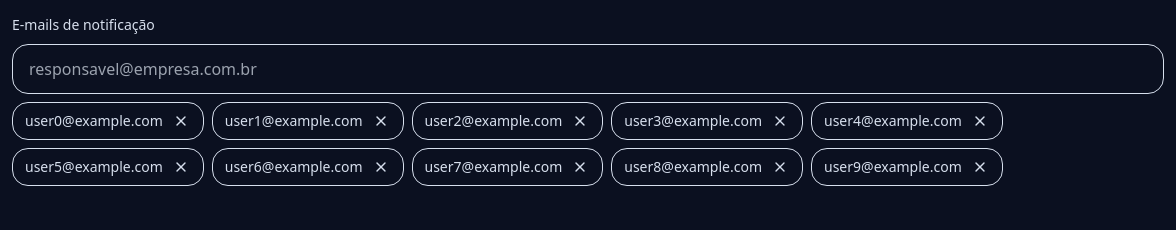
Test: EmailListEditor › blocks adding beyond the 10-email limit
Type "eleventh@example.com" into the field labelled "E-mails de notificação" at (588, 69), box [12, 44, 1164, 94]
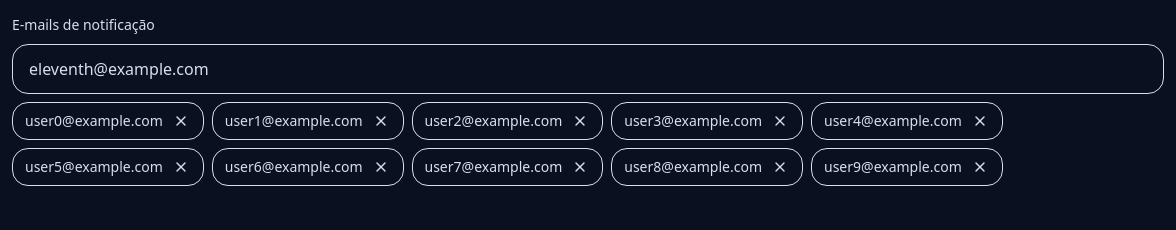
Press Enter in the field labelled "E-mails de notificação", box [12, 44, 1164, 94]
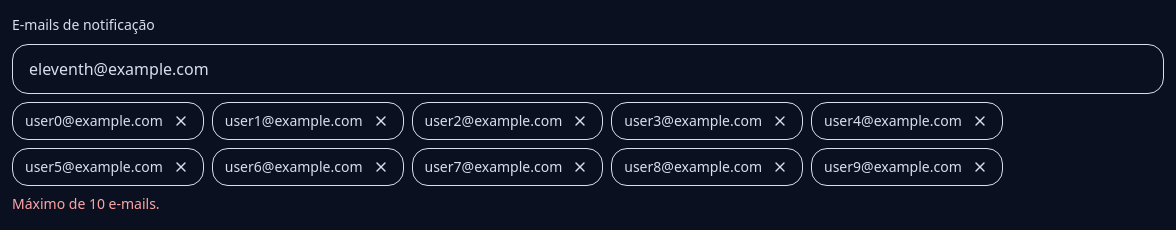
Expected: the message shows "Máximo", [12, 194, 160, 213]
